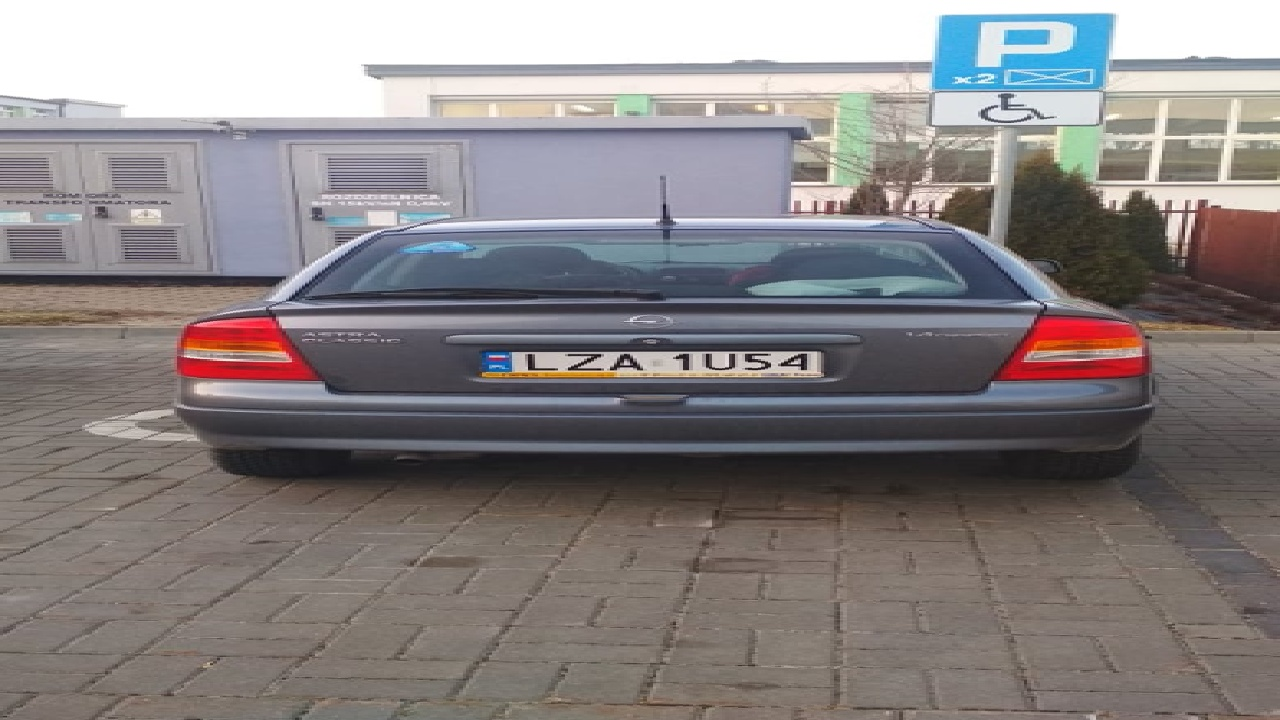D18: (931, 13, 1109, 89)
